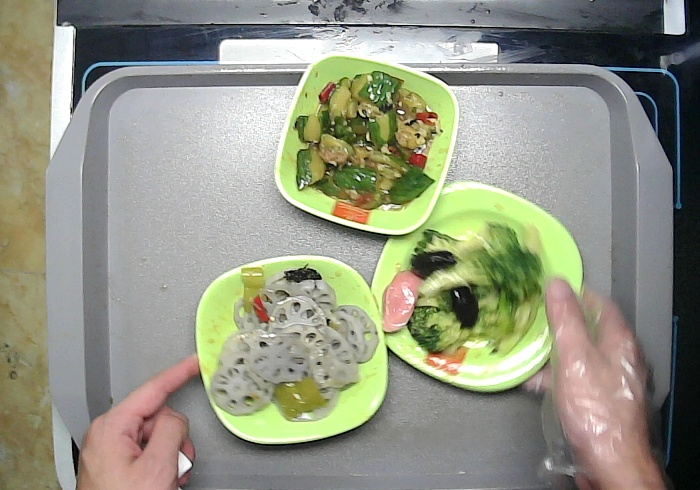SHKJ-Lv_Se_Cai_Die: (194, 253, 390, 446)
SHKJ-Lv_Se_Si_Fang_Cai_Die: (367, 178, 586, 393)
SHKJ-Lv_Se_Xiao_Fang_Die: (272, 50, 460, 237)
